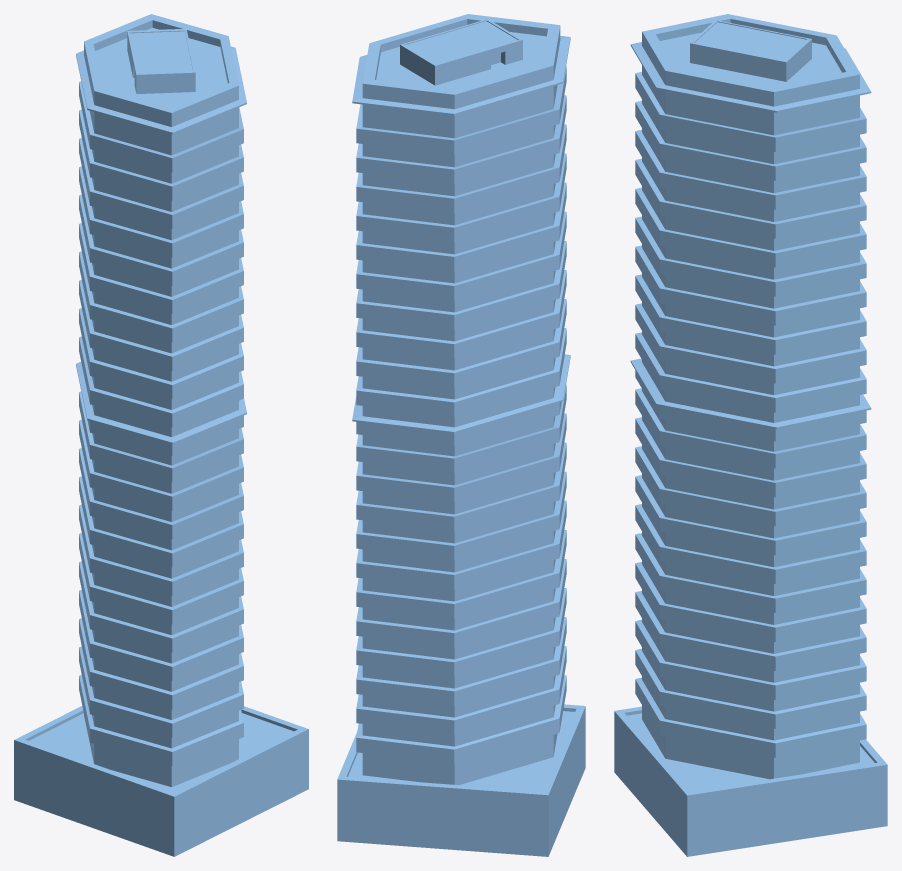
The model's file is Building1.fbx.
3 views of the same model, side by side, from view 1: azimuth 30°, elevation 25°; view 2: azimuth 150°, elevation 25°; view 3: azimuth 270°, elevation 25° (orthographic). The views are drawn at different scales.
Parts seen in each view (by area): view 1: Cylinder.063; view 2: Cylinder.063; view 3: Cylinder.063.
Part boxes in pixels (left/top/right/bottom): Cylinder.063: left=14, top=14, right=308, bottom=856; Cylinder.063: left=337, top=14, right=585, bottom=856; Cylinder.063: left=614, top=14, right=887, bottom=856.
Size of the model in its own units: 1713 by 5236 by 1713.
